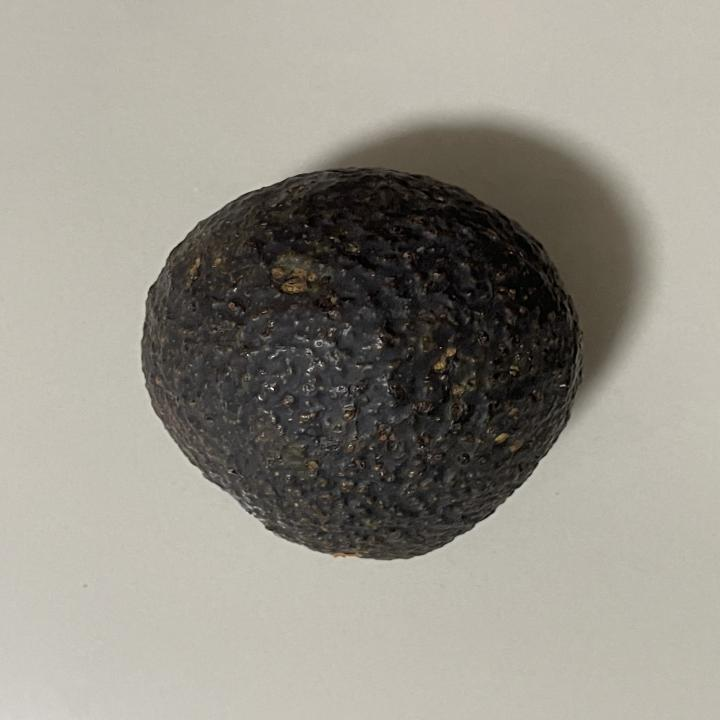Level2: (129, 162, 594, 568)
